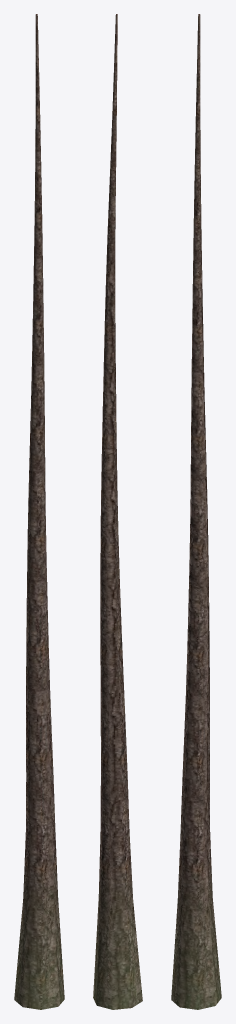
Rendered from spruce1_trunk.glb.
3 views of the same model, side by side, from view 1: azimuth 90°, elevation 25°; view 2: azimuth 210°, elevation 25°; view 3: azimuth 270°, elevation 25° (orthographic).
Visible parts, largest first — view 1: trunk; view 2: trunk; view 3: trunk.
Part boxes in pixels (box(x1,y1,x2,y2)): trunk: box(14, 14, 64, 1009); trunk: box(93, 14, 142, 1009); trunk: box(171, 14, 221, 1009).
Size of the model in its own units: 0.5128 by 11.01 by 0.5128.
1 material, 1 textured.
